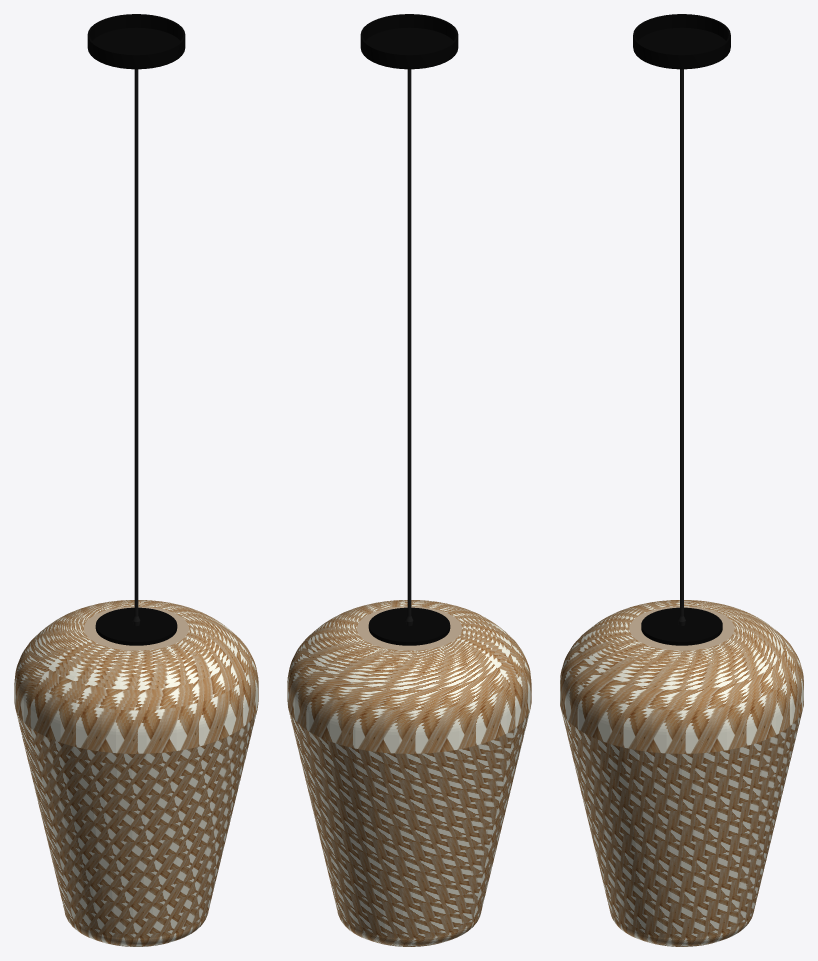
The model's file is 001.2_Sistevenca.glb.
The picture shows the model from 3 angles, left to right: view 1: azimuth 30°, elevation 25°; view 2: azimuth 150°, elevation 25°; view 3: azimuth 270°, elevation 25°; orthographic projection.
Visible parts, largest first — view 1: root; view 2: root; view 3: root.
Part boxes in pixels (box(x1,y1,x2,y2)): root: box(14, 14, 258, 946); root: box(287, 14, 531, 946); root: box(560, 14, 803, 946).
Size of the model in its own units: 0.3 by 1.2 by 0.2994.
8 materials, 3 textured.
